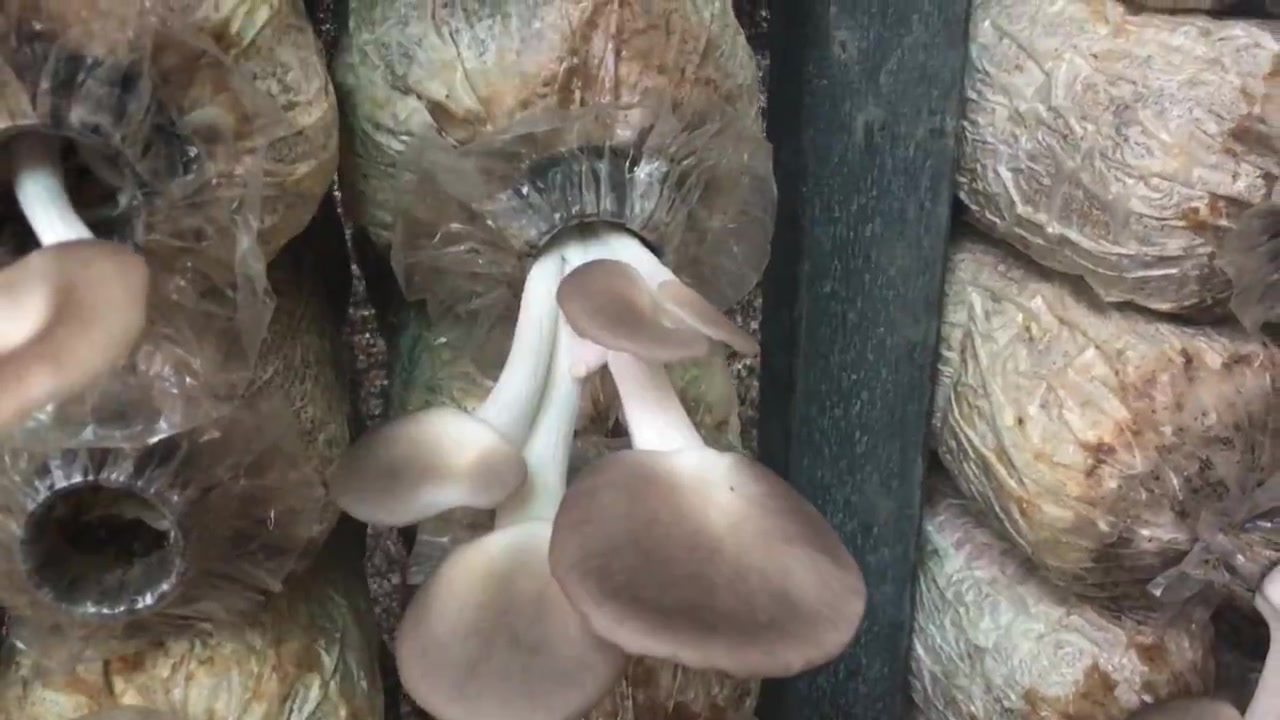nam: (334, 149, 867, 720), (1, 97, 153, 428)
